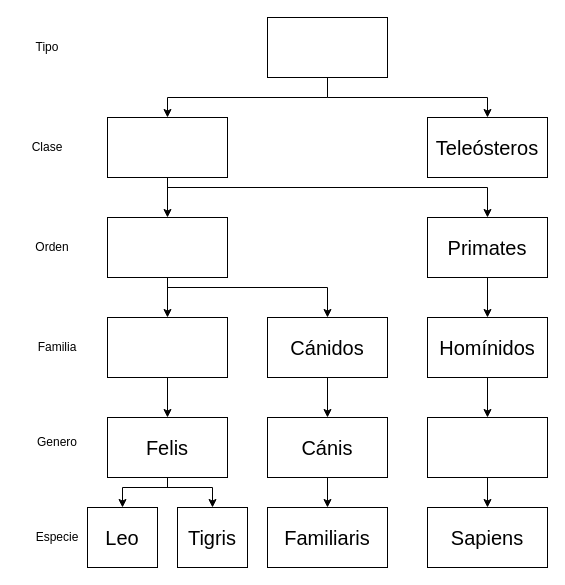
Some shapes in this 565 by 585 pixel diagram are drawn without their labels. The shapes that lost their labels are listed below. From the top down, each one's centre as x and y in pixels, then its label:
At point 327,47: "Vertebrados".
At point 167,147: "Mamíferos".
At point 167,247: "Carnívoros".
At point 167,347: "Félidos".
At point 487,447: "Homo".
